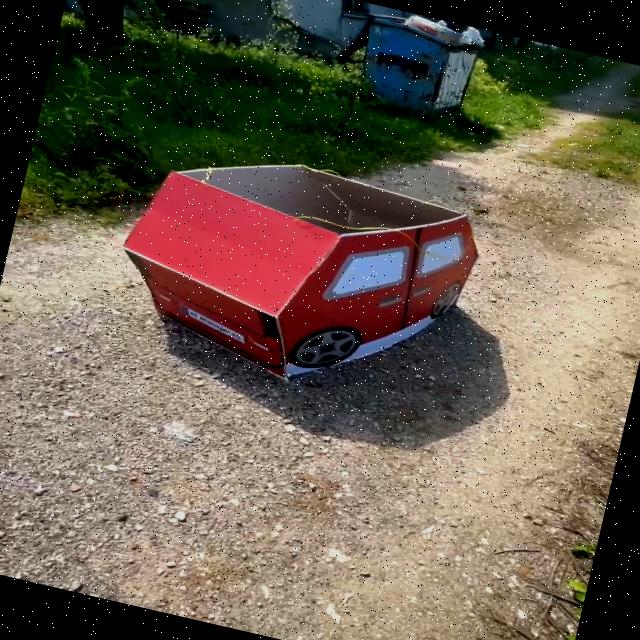red_car: (66, 91, 532, 429)
